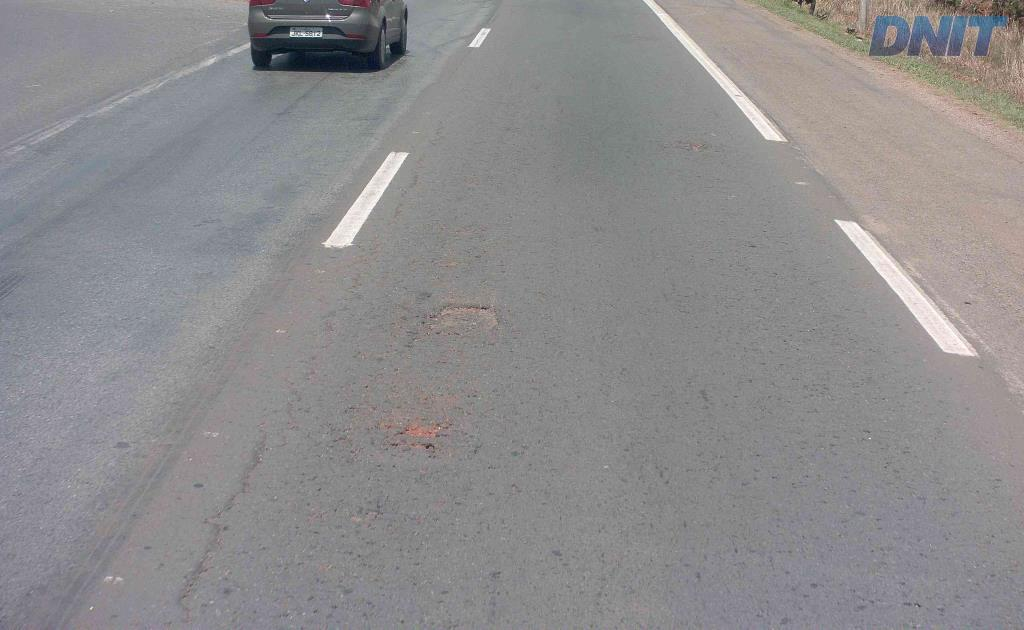pothole: (424, 298, 499, 324), (393, 413, 449, 443)
